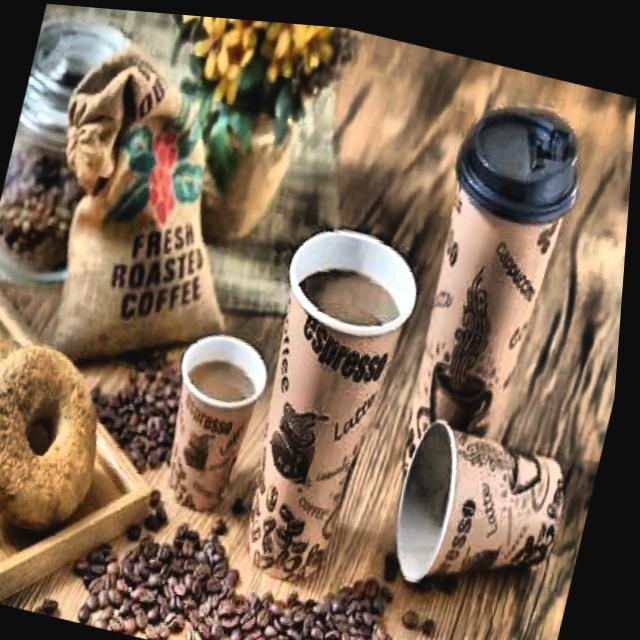Cup: (223, 192, 441, 597), (387, 93, 583, 515), (386, 394, 590, 614), (150, 308, 289, 524)
